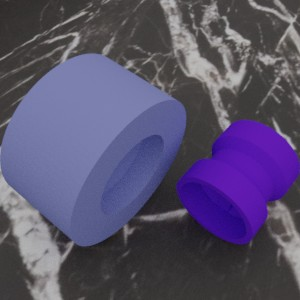lego: (0, 53, 186, 246), (176, 120, 300, 244)
